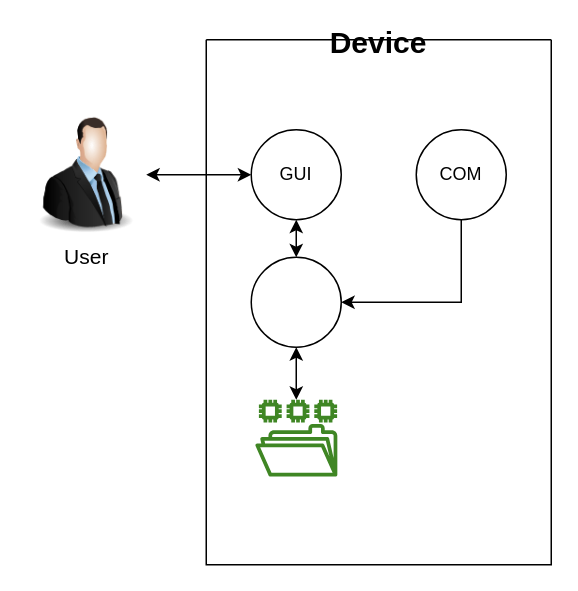
The diagram is 578 pixels wide and 591 high, and some of its shapes have lost their labels. Here are the shapes that lost their labels. From the top down, the centre of each, then its label:
[295,301]: Logic
[296,437]: File System
